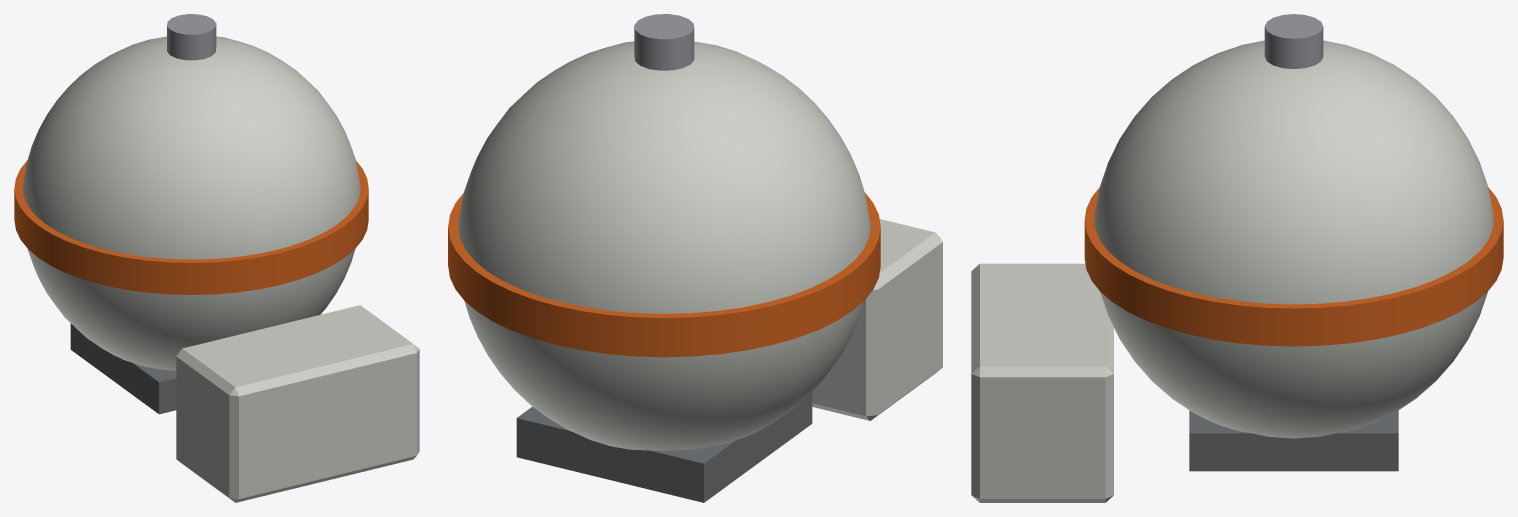
The picture shows the model from 3 angles, left to right: view 1: azimuth 30°, elevation 25°; view 2: azimuth 150°, elevation 25°; view 3: azimuth 270°, elevation 25°; orthographic projection. The views are drawn at different scales.
Visible parts, largest first — view 1: o4_o2; view 2: o4_o2; view 3: o4_o2.
Boxes of the visible parts, box(x1,y1,x2,y2) form: o4_o2: box(14, 14, 419, 502); o4_o2: box(448, 14, 942, 502); o4_o2: box(971, 14, 1503, 502).
Size of the model in its own units: 1 by 1.12 by 1.27.
